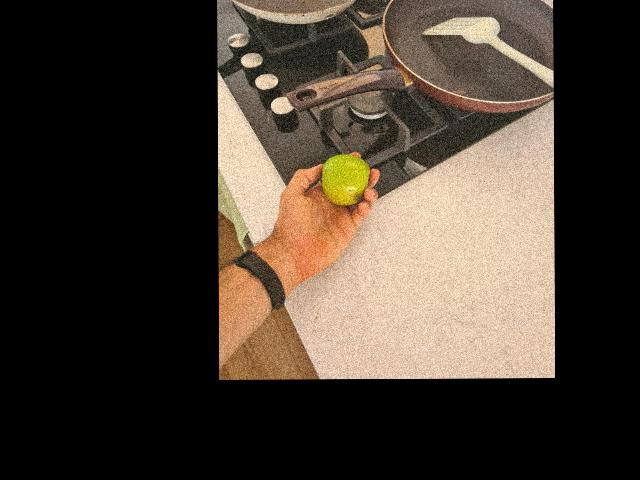apple: (317, 153, 376, 214)
